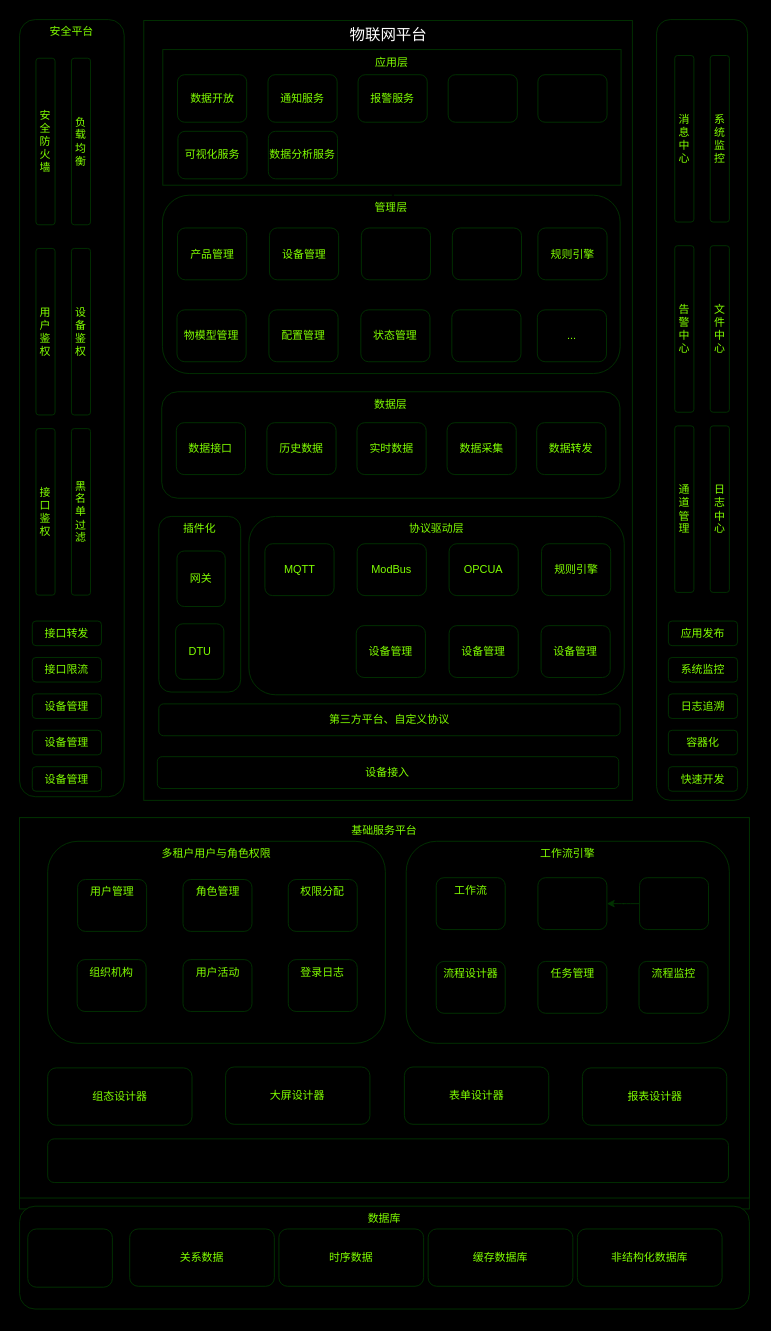
The diagram is 771 pixels wide and 1331 high, and some of its shapes have lost their labels. Here are the shapes that lost their labels. From the top down, the centre of each, then its label:
At [482,98]: "订阅服务".
At [572,98]: "流计算服务".
At [395,253]: "虚拟设备".
At [486,253]: "分组管理".
At [486,335]: "插件管理".
At [572,903]: "工作流分类".
At [674,903]: "流程设计".
At [388,1161]: "通用设计器".
At [69,1257]: "存储策略".
